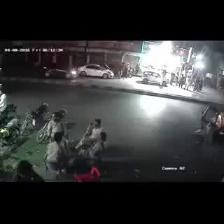person: (45, 133, 67, 170), (12, 161, 44, 181), (47, 112, 67, 140), (0, 90, 6, 115), (180, 75, 184, 87)
